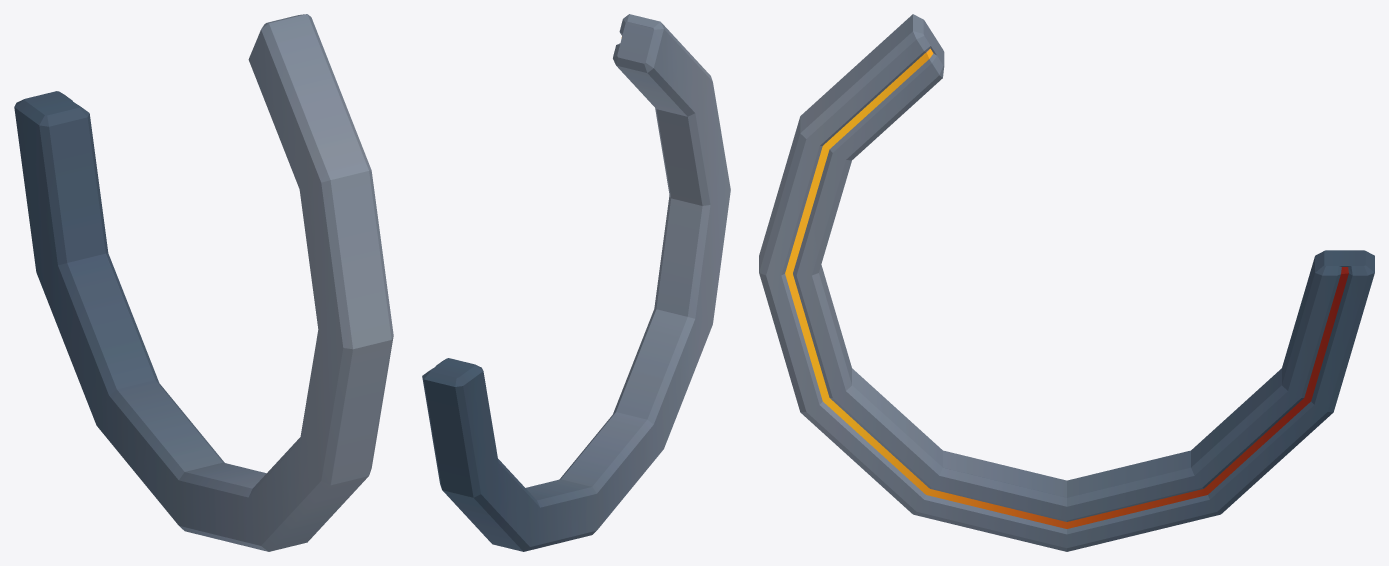
File: SM_APP_Alien_circle.glb
3 renders of one model, left to right at view 1: azimuth 30°, elevation 25°; view 2: azimuth 150°, elevation 25°; view 3: azimuth 270°, elevation 25°, orthographic. The views are drawn at different scales.
Visible parts, largest first — view 1: SM_APP_Alien_circle; view 2: SM_APP_Alien_circle; view 3: SM_APP_Alien_circle.
Part boxes in pixels (x1=…): SM_APP_Alien_circle: x1=14, y1=14, x2=393, y2=551; SM_APP_Alien_circle: x1=422, y1=14, x2=730, y2=551; SM_APP_Alien_circle: x1=759, y1=14, x2=1374, y2=551.
Size of the model in its own units: 1.07 by 11.57 by 12.4.
Materials: 1 (1 with a texture image).
